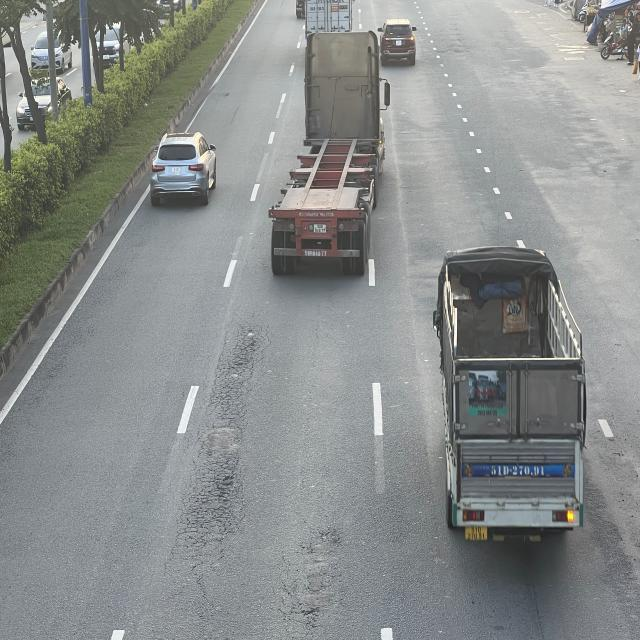car: (150, 131, 218, 205), (379, 16, 418, 64)
container: (266, 31, 390, 275), (305, 0, 355, 35)
truck: (435, 248, 589, 545)
